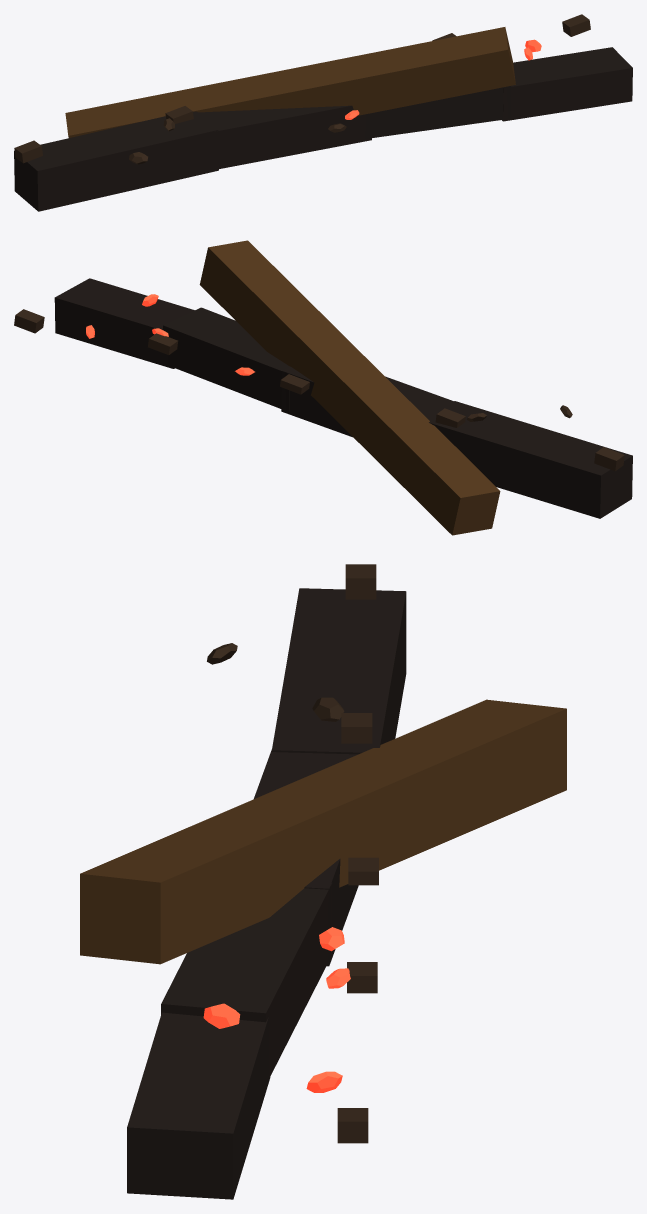
Rendered from mia-burnt_beam.glb.
3 renders of one model, top to bottom at view 1: azimuth 30°, elevation 25°; view 2: azimuth 150°, elevation 25°; view 3: azimuth 270°, elevation 25°, orthographic. The views are drawn at different scales.
Parts seen in each view (by area): view 1: Body_black, Body_wood, Body_grain, Body_red-bulb; view 2: Body_black, Body_wood, Body_grain, Body_red-bulb; view 3: Body_black, Body_wood, Body_grain, Body_red-bulb.
Boxes of the visible parts, <box> form: Body_black: <box>14,47,632,211</box>; Body_wood: <box>65,27,515,137</box>; Body_grain: <box>14,14,590,164</box>; Body_red-bulb: <box>345,39,541,119</box>; Body_black: <box>54,278,632,518</box>; Body_wood: <box>199,240,500,535</box>; Body_grain: <box>14,309,624,471</box>; Body_red-bulb: <box>86,294,254,375</box>; Body_black: <box>127,588,406,1199</box>; Body_wood: <box>80,699,566,964</box>; Body_grain: <box>207,564,378,1143</box>; Body_red-bulb: <box>203,927,350,1092</box>.
Bounding box in the file's own units: 3.06 × 0.6151 × 1.14.
